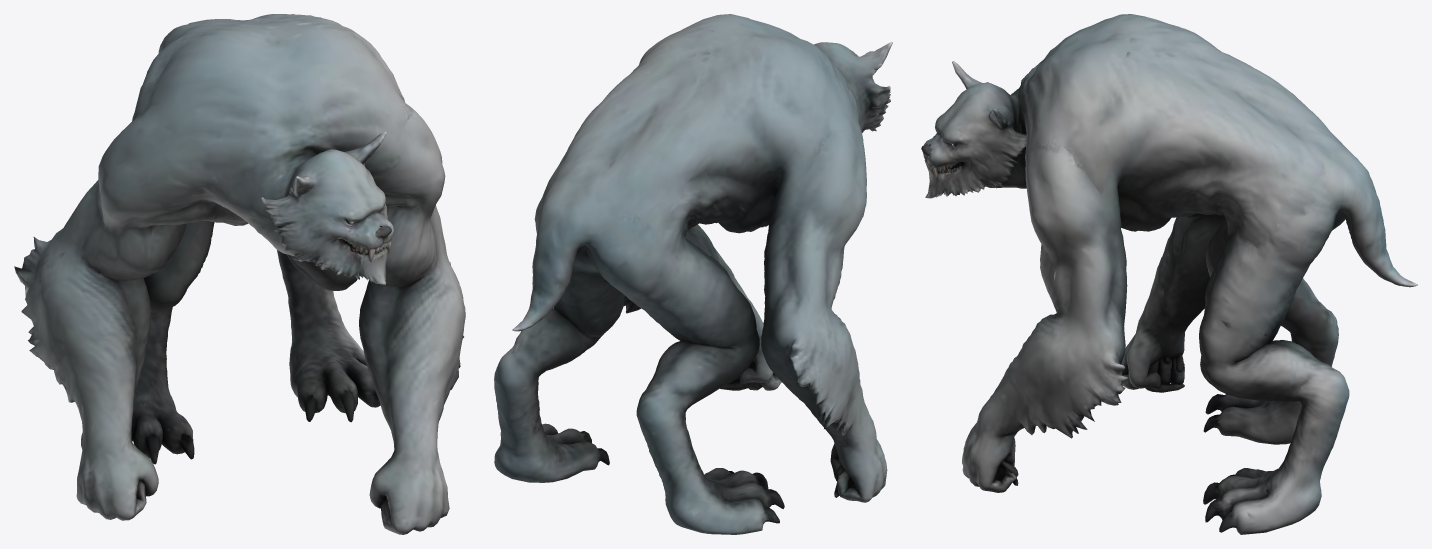
The model's file is MZ4250 - Quaggoth_2 2025.glb.
3 renders of one model, left to right at view 1: azimuth 30°, elevation 25°; view 2: azimuth 150°, elevation 25°; view 3: azimuth 270°, elevation 25°, orthographic. The views are drawn at different scales.
Visible parts, largest first — view 1: Body.002; view 2: Body.002; view 3: Body.002.
Boxes of the visible parts, box(x1,y1,x2,y2) form: Body.002: box(14, 14, 465, 534); Body.002: box(494, 14, 892, 534); Body.002: box(921, 14, 1417, 534).
Size of the model in its own units: 59.04 by 71.84 by 77.23.
Materials: 1 (1 with a texture image).
